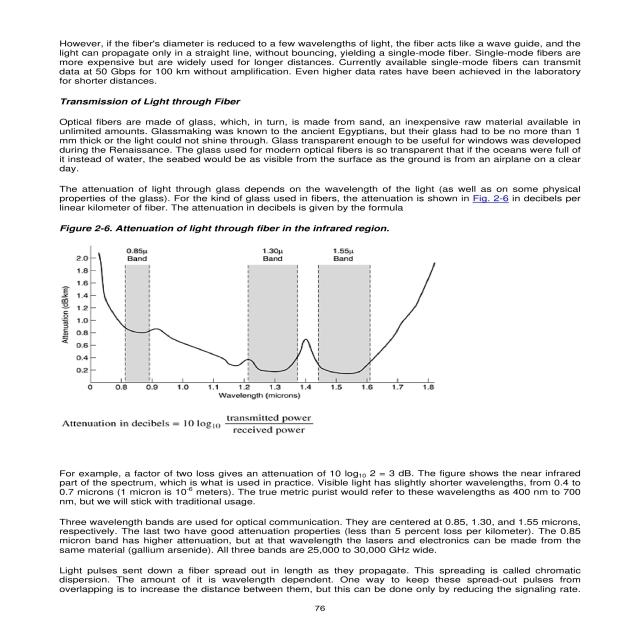diagram: (34, 218, 462, 440)
